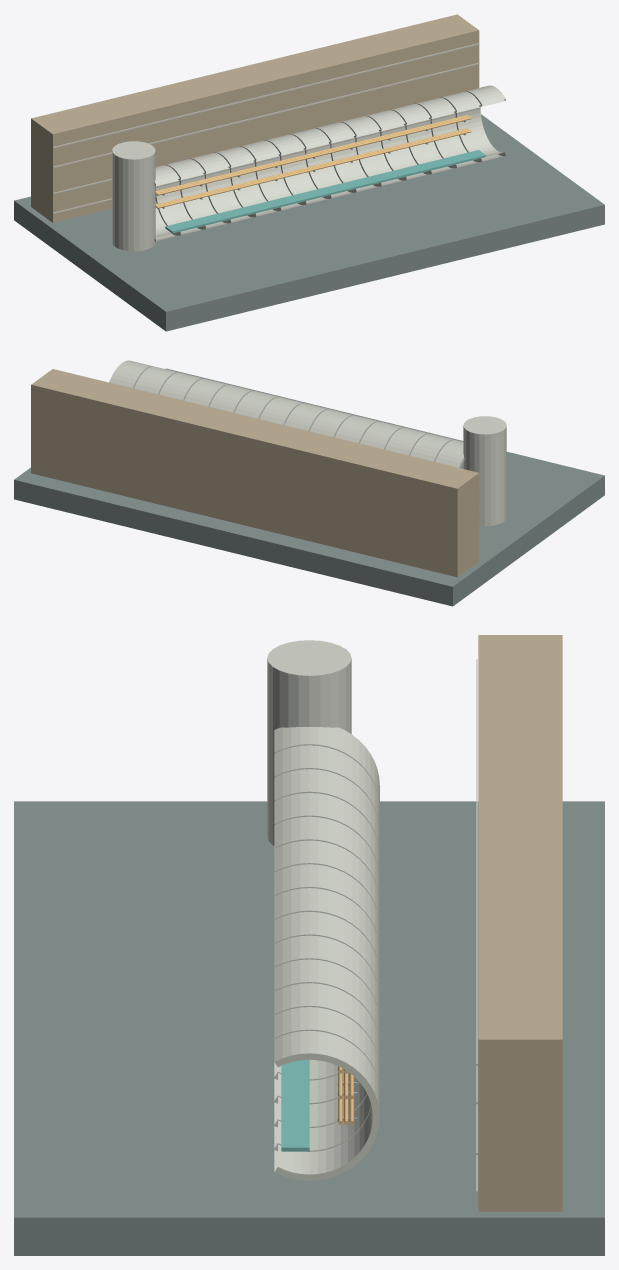
Rendered from world-power.glb.
3 views of the same model, one above another, from view 1: azimuth 30°, elevation 25°; view 2: azimuth 150°, elevation 25°; view 3: azimuth 270°, elevation 25° (orthographic). The views are drawn at different scales.
Parts seen in each view (by area): view 1: stage-0-excavated-strata.008, stage-0-compacted-fill.008, stage-2-warm-concrete.008, stage-1-warm-concrete.008, stage-4-safety-ochre.008, stage-4-infrastructure-teal.008, stage-0-warm-concrete.008; view 2: stage-0-compacted-fill.008, stage-0-excavated-strata.008, stage-2-warm-concrete.008, stage-1-warm-concrete.008; view 3: stage-0-excavated-strata.008, stage-0-compacted-fill.008, stage-2-warm-concrete.008, stage-1-warm-concrete.008, stage-4-infrastructure-teal.008, stage-0-warm-concrete.008, stage-4-safety-ochre.008.
Boxes of the visible parts, <box> form: stage-0-excavated-strata.008: <box>14,114,604,331</box>; stage-0-compacted-fill.008: <box>31,14,479,222</box>; stage-2-warm-concrete.008: <box>154,85,505,241</box>; stage-1-warm-concrete.008: <box>112,141,155,251</box>; stage-4-safety-ochre.008: <box>155,115,471,208</box>; stage-4-infrastructure-teal.008: <box>165,150,485,233</box>; stage-0-warm-concrete.008: <box>53,43,479,213</box>; stage-0-compacted-fill.008: <box>31,369,479,577</box>; stage-0-excavated-strata.008: <box>14,368,604,606</box>; stage-2-warm-concrete.008: <box>109,360,464,468</box>; stage-1-warm-concrete.008: <box>463,416,506,526</box>; stage-0-excavated-strata.008: <box>14,801,604,1255</box>; stage-0-compacted-fill.008: <box>478,635,562,1211</box>; stage-2-warm-concrete.008: <box>274,727,379,1180</box>; stage-1-warm-concrete.008: <box>267,640,351,845</box>; stage-4-infrastructure-teal.008: <box>281,1059,309,1151</box>; stage-0-warm-concrete.008: <box>476,659,477,1193</box>; stage-4-safety-ochre.008: <box>338,1066,353,1124</box>.
Size of the model in its own units: 70 by 17.5 by 42.
